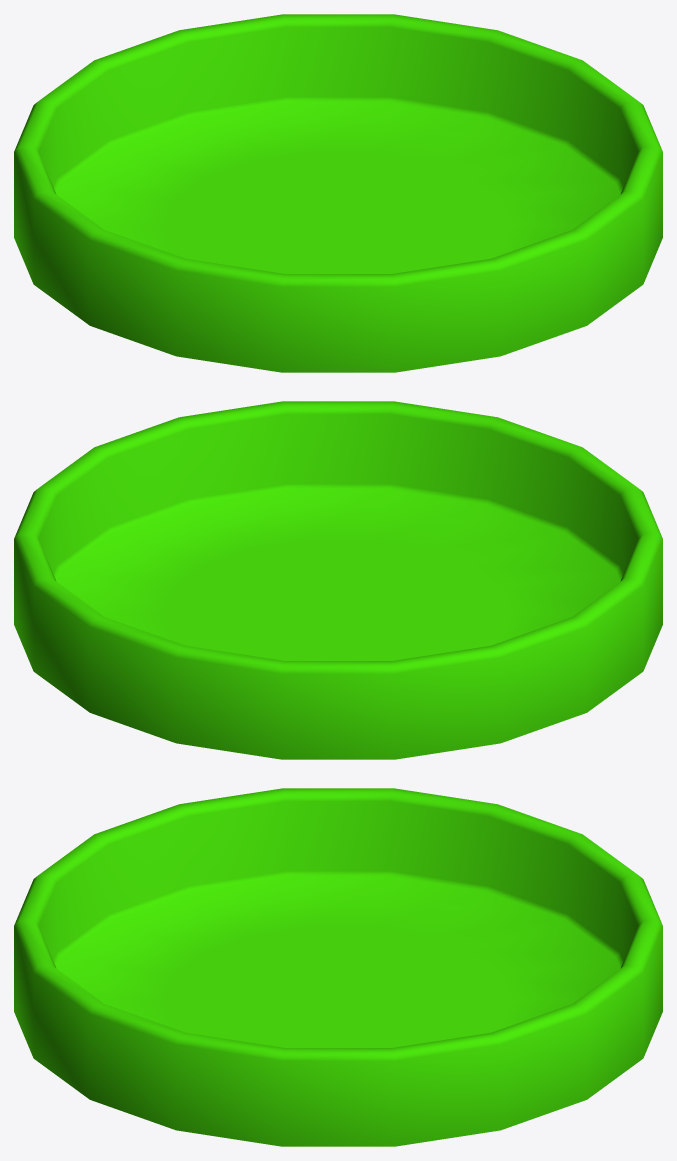
Rendered from G_PedriDish_01.fbx.
3 renders of one model, top to bottom at view 1: azimuth 30°, elevation 25°; view 2: azimuth 150°, elevation 25°; view 3: azimuth 270°, elevation 25°, orthographic.
Visible parts, largest first — view 1: pedri dish.001; view 2: pedri dish.001; view 3: pedri dish.001.
Boxes of the visible parts, x1,y1,x2,y2 form: pedri dish.001: (14,14,662,372); pedri dish.001: (14,401,662,759); pedri dish.001: (14,788,662,1146).
Size of the model in its own units: 89.11 by 13.95 by 90.49.
